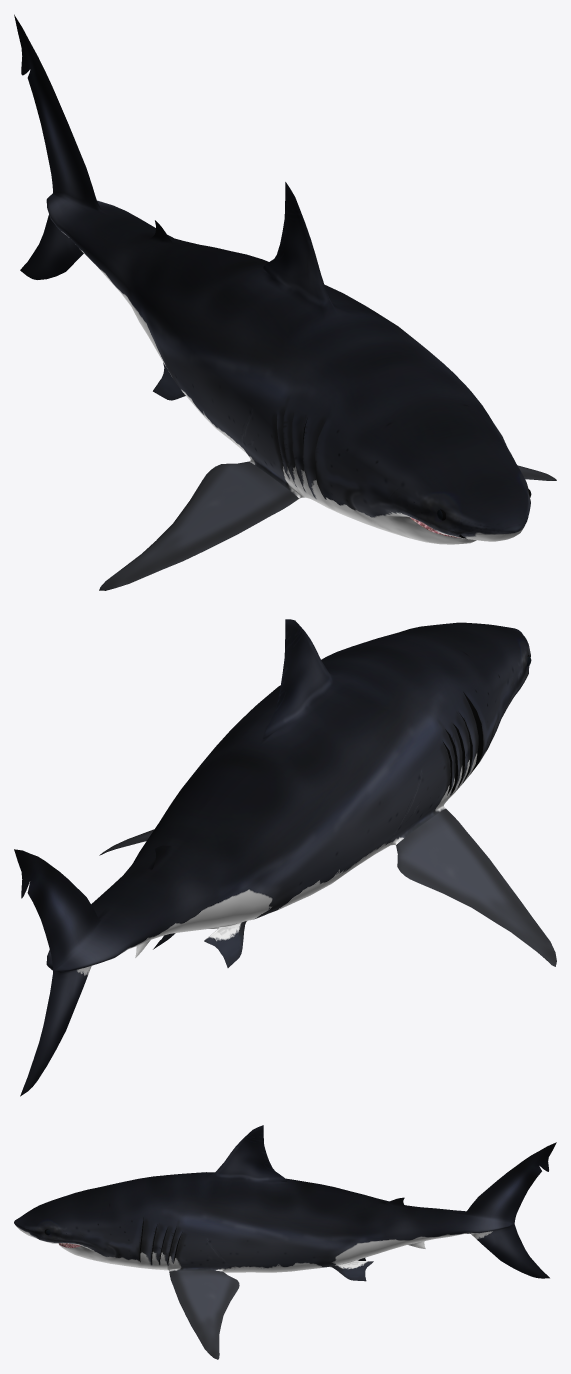
File: great_white_shark.glb
The picture shows the model from 3 angles, top to bottom: view 1: azimuth 30°, elevation 25°; view 2: azimuth 150°, elevation 25°; view 3: azimuth 270°, elevation 25°; orthographic projection. The views are drawn at different scales.
Parts seen in each view (by area): view 1: Object_3; view 2: Object_3, Object_4; view 3: Object_3, Object_4.
Boxes of the visible parts, x1=… form: Object_3: x1=14, y1=14, x2=556, y2=590; Object_3: x1=14, y1=619, x2=556, y2=1096; Object_4: x1=443, y1=655, x2=531, y2=795; Object_3: x1=14, y1=1125, x2=556, y2=1359; Object_4: x1=37, y1=1217, x2=182, y2=1264.
Bounding box in the file's own units: 3.36 × 2.27 × 6.4.
2 materials, 2 textured.
